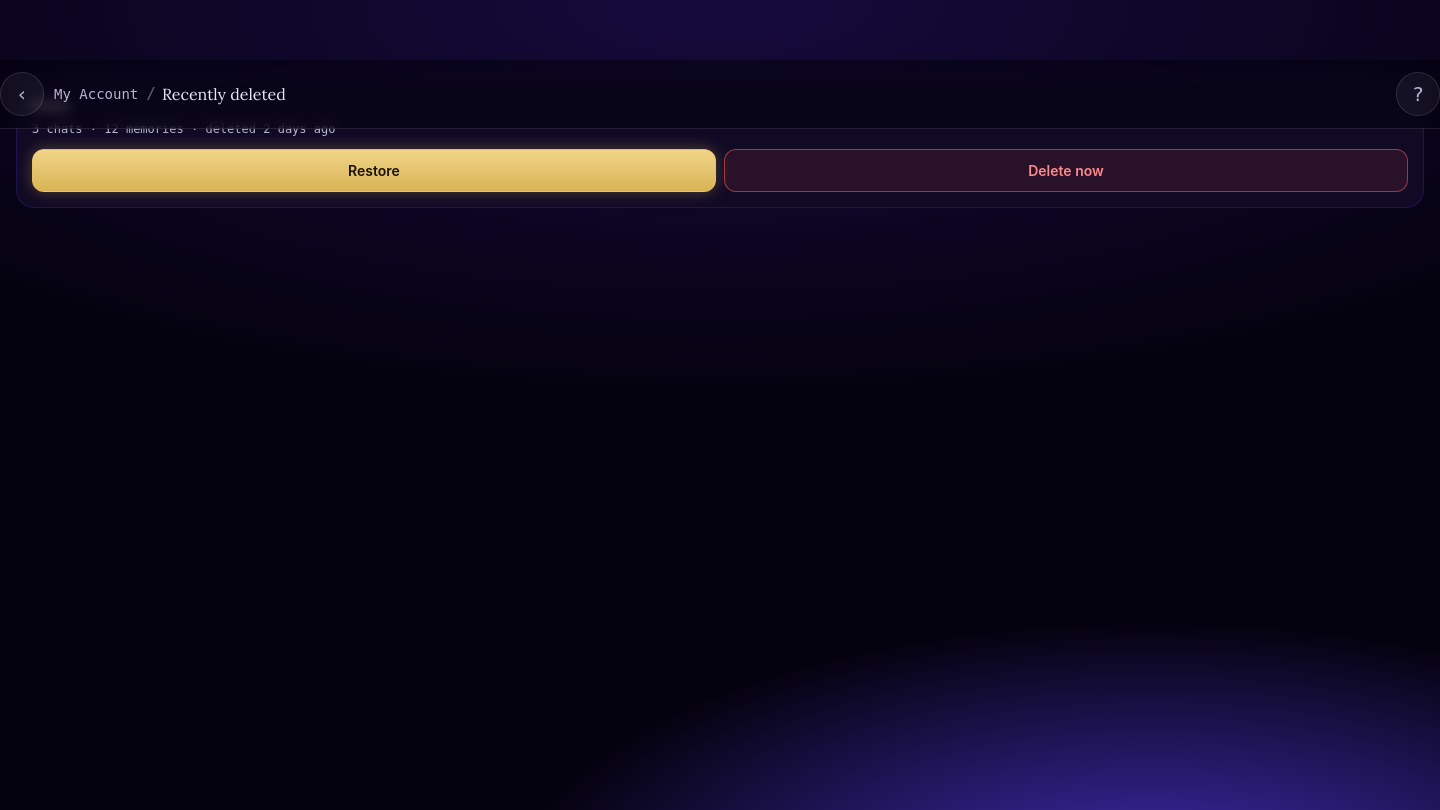
Test: RecentlyDeletedPage › Delete now opens a confirm naming the cascade counts and warning it cannot be undone
Click the button "Delete now" at {"x": 1066, "y": 170}, box [724,149,1408,192]
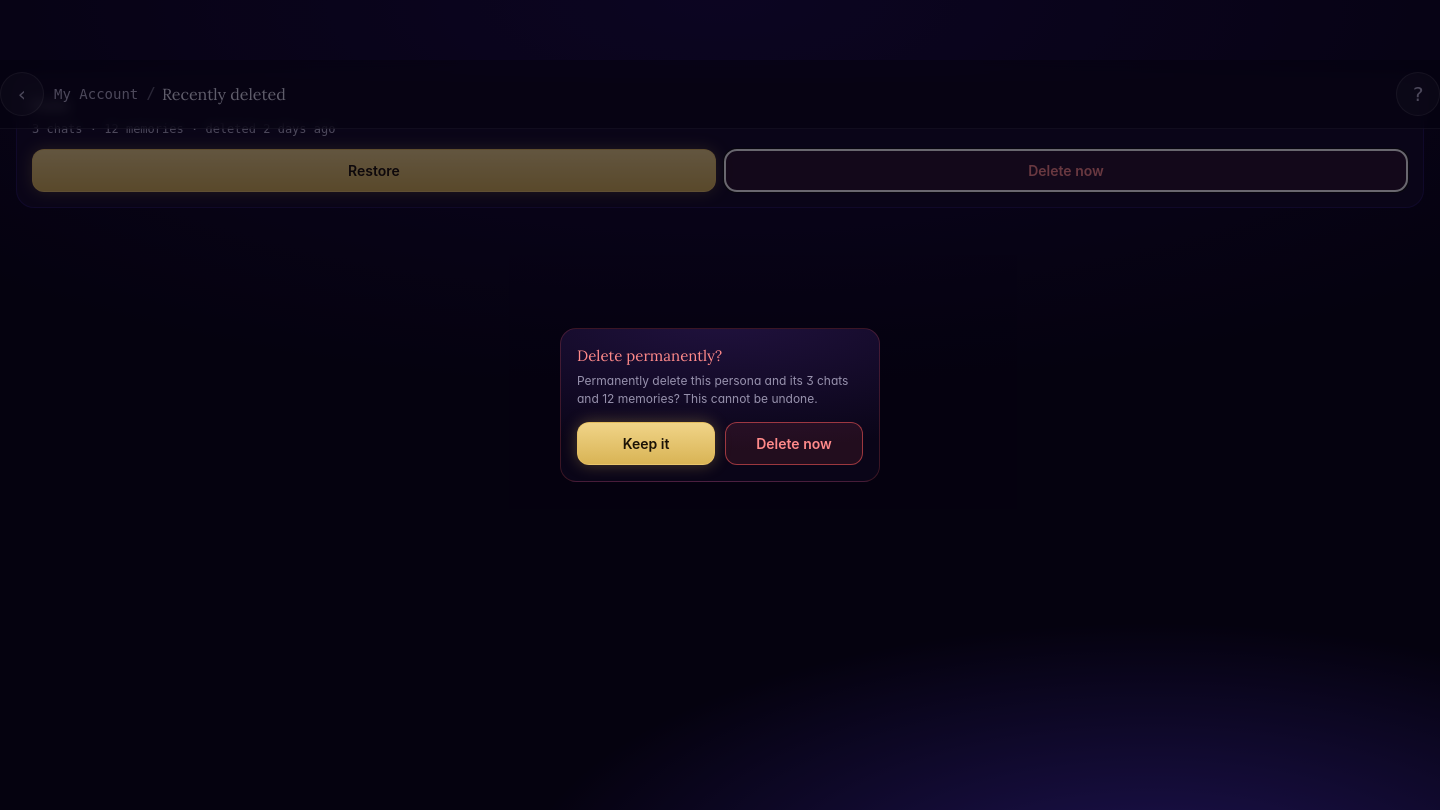
Now the dialog shows "3 chats", box [577,373,848,406]
Now the dialog shows "12 memories", box [577,373,848,406]
Now the dialog shows "cannot be undone", box [577,373,848,406]
